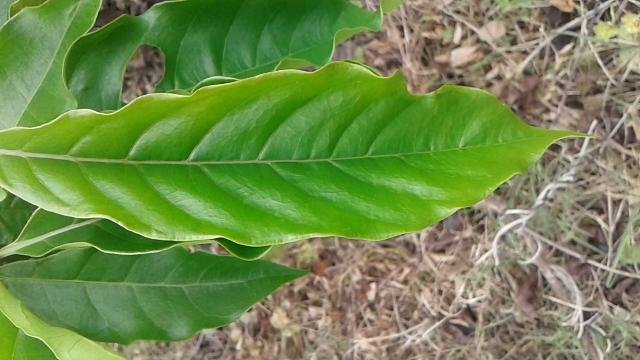healthy: (0, 60, 594, 244)
